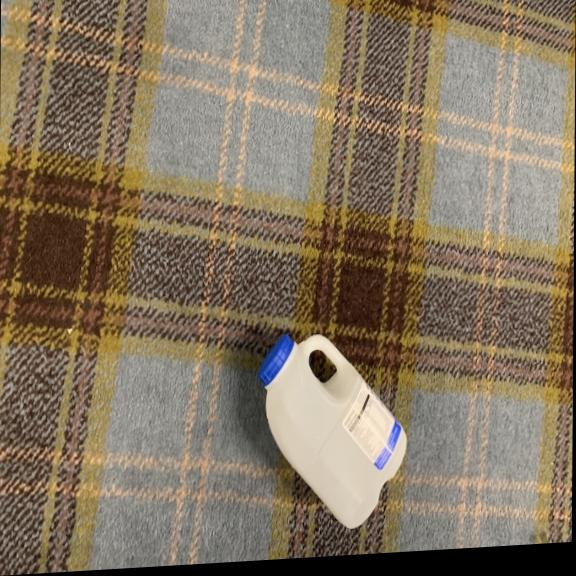Plastik: (252, 320, 406, 538)
